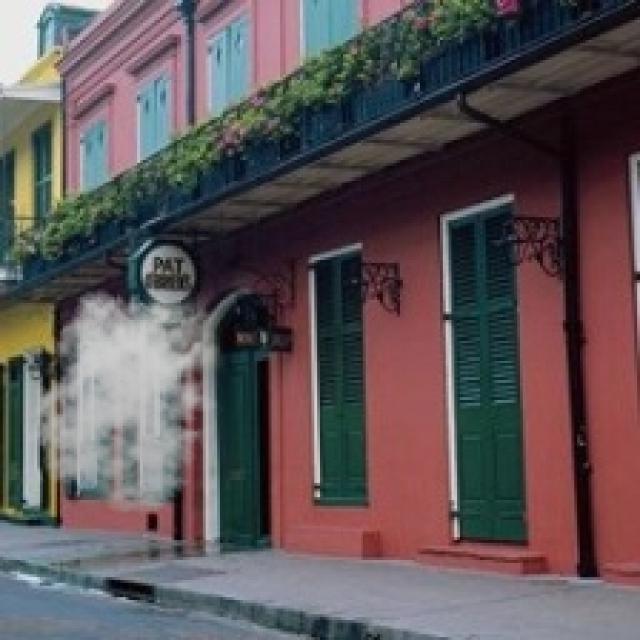smoke: (26, 283, 231, 514)
